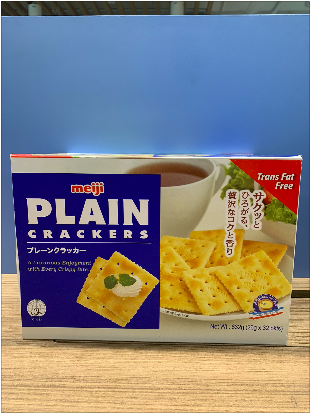Crackers_800-899g: (20, 162, 293, 339)
